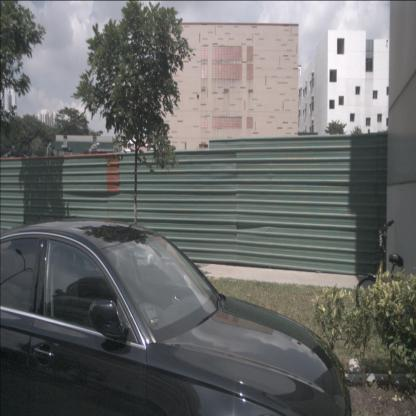vehicle-bicycle: (354, 219, 416, 320)
vehicle-car: (0, 217, 353, 415)
